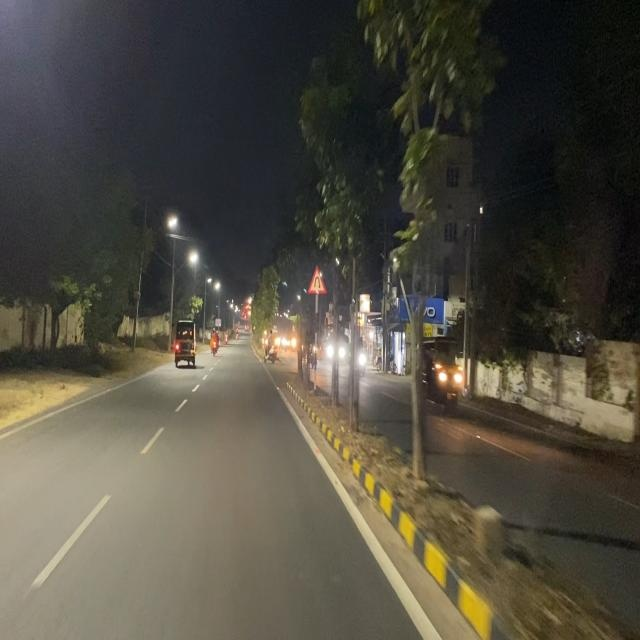bien_nguy_hiem: (308, 264, 326, 294)
